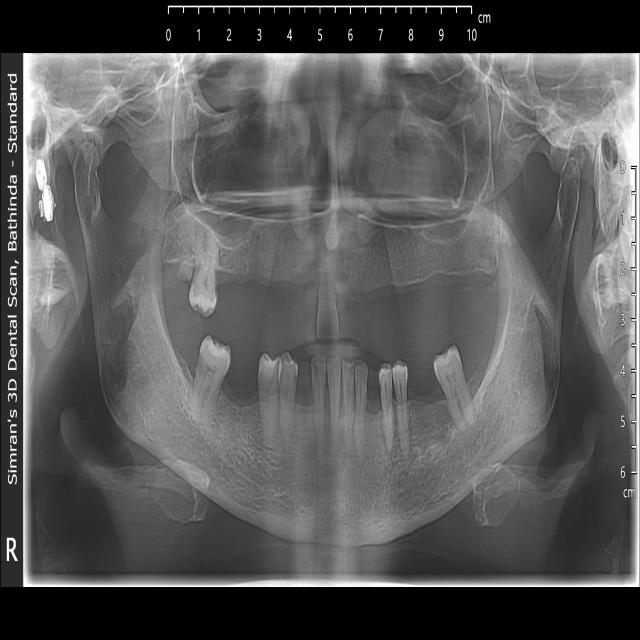Missing teeth: (342, 258, 484, 313), (220, 263, 316, 307), (218, 368, 252, 426), (408, 369, 443, 423), (366, 366, 380, 445), (298, 367, 312, 434)
Root Piece: (176, 246, 193, 280)
